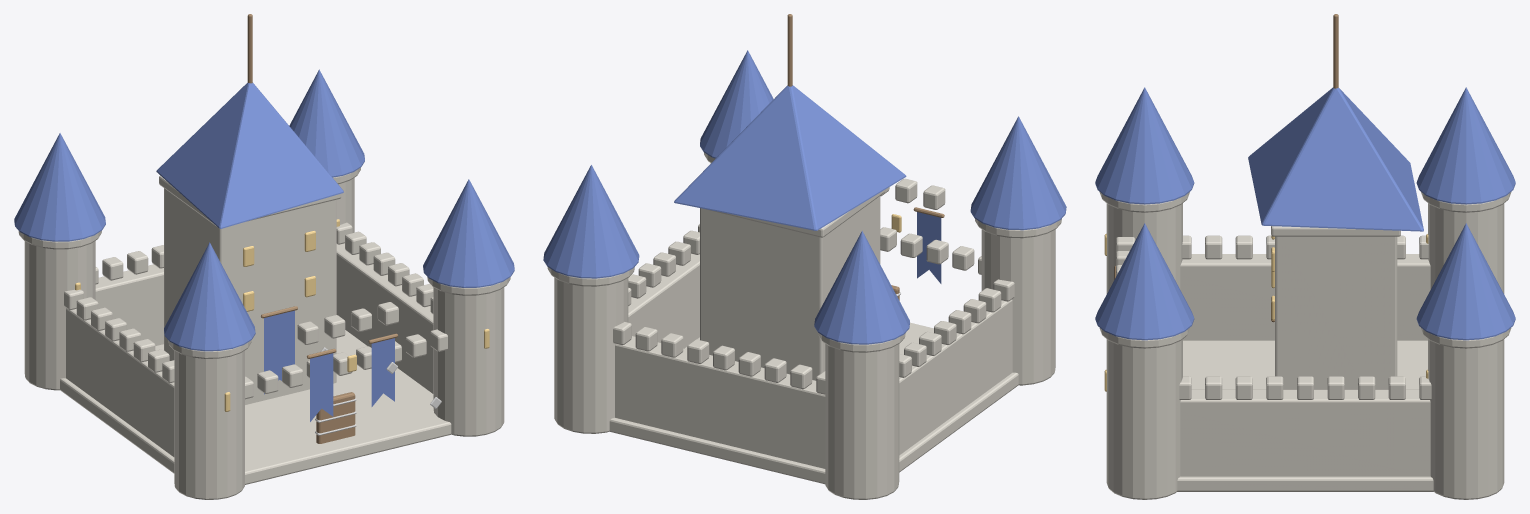
Rendered from castle.glb.
The picture shows the model from 3 angles, left to right: view 1: azimuth 30°, elevation 25°; view 2: azimuth 150°, elevation 25°; view 3: azimuth 270°, elevation 25°; orthographic projection. The views are drawn at different scales.
Visible parts, largest first — view 1: keep, plinth, keep_roof, tower, tower.001, wall_left, tower.002, wall_right, tower_roof.002, tower_roof, tower_roof.001, tower_roof.003 (+10 smaller); view 2: keep, keep_roof, wall_back, tower.002, tower.003, wall_left, tower, tower_roof.003, tower_roof, tower_roof.002, plinth, wall_right (+6 smaller); view 3: wall_right, keep, keep_roof, tower.003, tower.001, wall_left, plinth, tower_roof.001, tower_roof.003, tower_roof, tower_roof.002, tower.002 (+6 smaller).
Part boxes in pixels (<box>): keep: <box>164,188,336,404</box>; plinth: <box>60,330,451,484</box>; keep_roof: <box>156,82,343,228</box>; tower: <box>174,350,244,499</box>; tower.001: <box>433,287,504,436</box>; wall_left: <box>66,308,174,456</box>; tower.002: <box>24,241,95,390</box>; wall_right: <box>336,243,433,393</box>; tower_roof.002: <box>14,133,105,241</box>; tower_roof: <box>164,242,255,351</box>; tower_roof.001: <box>423,179,514,287</box>; tower_roof.003: <box>289,69,364,177</box>; keep: <box>700,196,880,380</box>; keep_roof: <box>674,85,906,230</box>; wall_back: <box>615,336,825,468</box>; tower.002: <box>825,344,899,499</box>; tower.003: <box>554,277,628,433</box>; wall_left: <box>899,299,1012,455</box>; tower: <box>981,229,1055,385</box>; tower_roof.003: <box>543,165,639,278</box>; tower_roof: <box>970,116,1066,230</box>; tower_roof.002: <box>814,231,909,344</box>; plinth: <box>609,322,1018,484</box>; wall_right: <box>628,253,699,348</box>; wall_right: <box>1180,389,1430,476</box>; keep: <box>1275,236,1397,389</box>; keep_roof: <box>1248,87,1423,231</box>; tower.003: <box>1428,339,1504,499</box>; tower.001: <box>1106,339,1182,499</box>; wall_left: <box>1180,254,1430,340</box>; plinth: <box>1177,340,1433,491</box>; tower_roof.001: <box>1095,223,1194,340</box>; tower_roof.003: <box>1416,223,1515,340</box>; tower_roof: <box>1095,87,1194,204</box>; tower_roof.002: <box>1416,87,1515,204</box>; tower.002: <box>1428,203,1504,293</box>.
Size of the model in its own units: 1.1 by 1.16 by 1.1.
